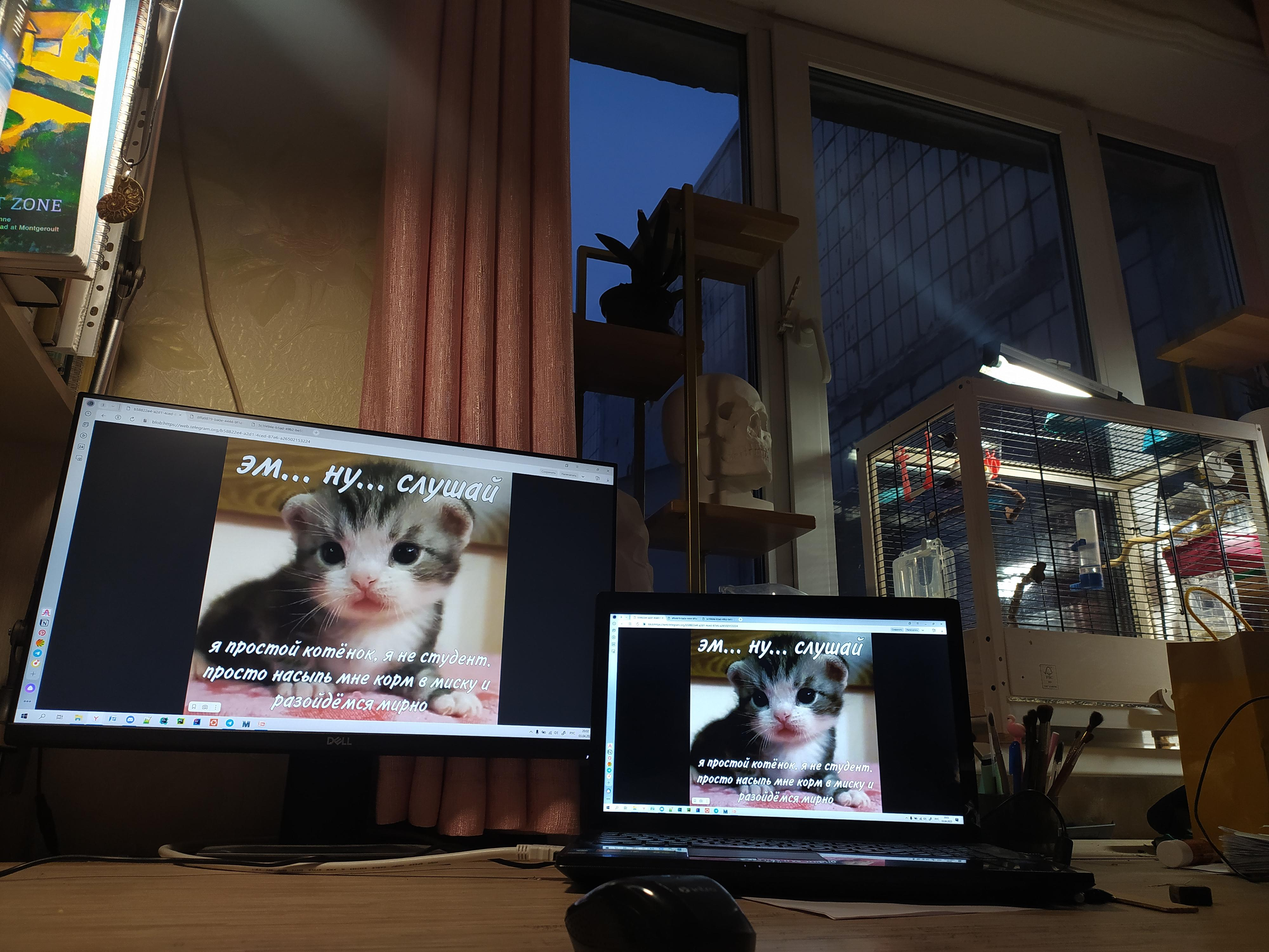monitor: (2, 384, 630, 768), (576, 590, 969, 831)
